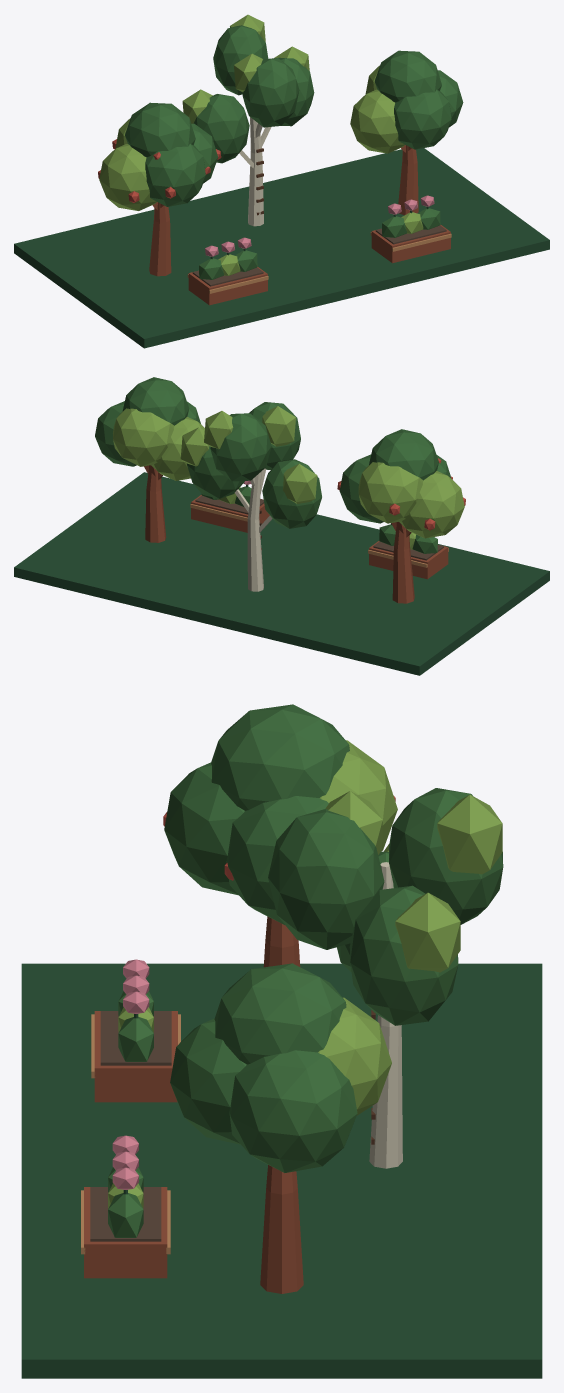
The model's file is Backyard_GardenGrove_Standard.glb.
3 renders of one model, top to bottom at view 1: azimuth 30°, elevation 25°; view 2: azimuth 150°, elevation 25°; view 3: azimuth 270°, elevation 25°, orthographic. The views are drawn at different scales.
Parts seen in each view (by area): view 1: Backyard_GardenGrove_Standard; view 2: Backyard_GardenGrove_Standard; view 3: Backyard_GardenGrove_Standard.
Part boxes in pixels (left/top/right/bottom): Backyard_GardenGrove_Standard: left=14, top=14, right=549, bottom=348; Backyard_GardenGrove_Standard: left=14, top=377, right=549, bottom=675; Backyard_GardenGrove_Standard: left=21, top=704, right=542, bottom=1378.
Bounding box in the file's own units: 9 × 4.22 × 5.
